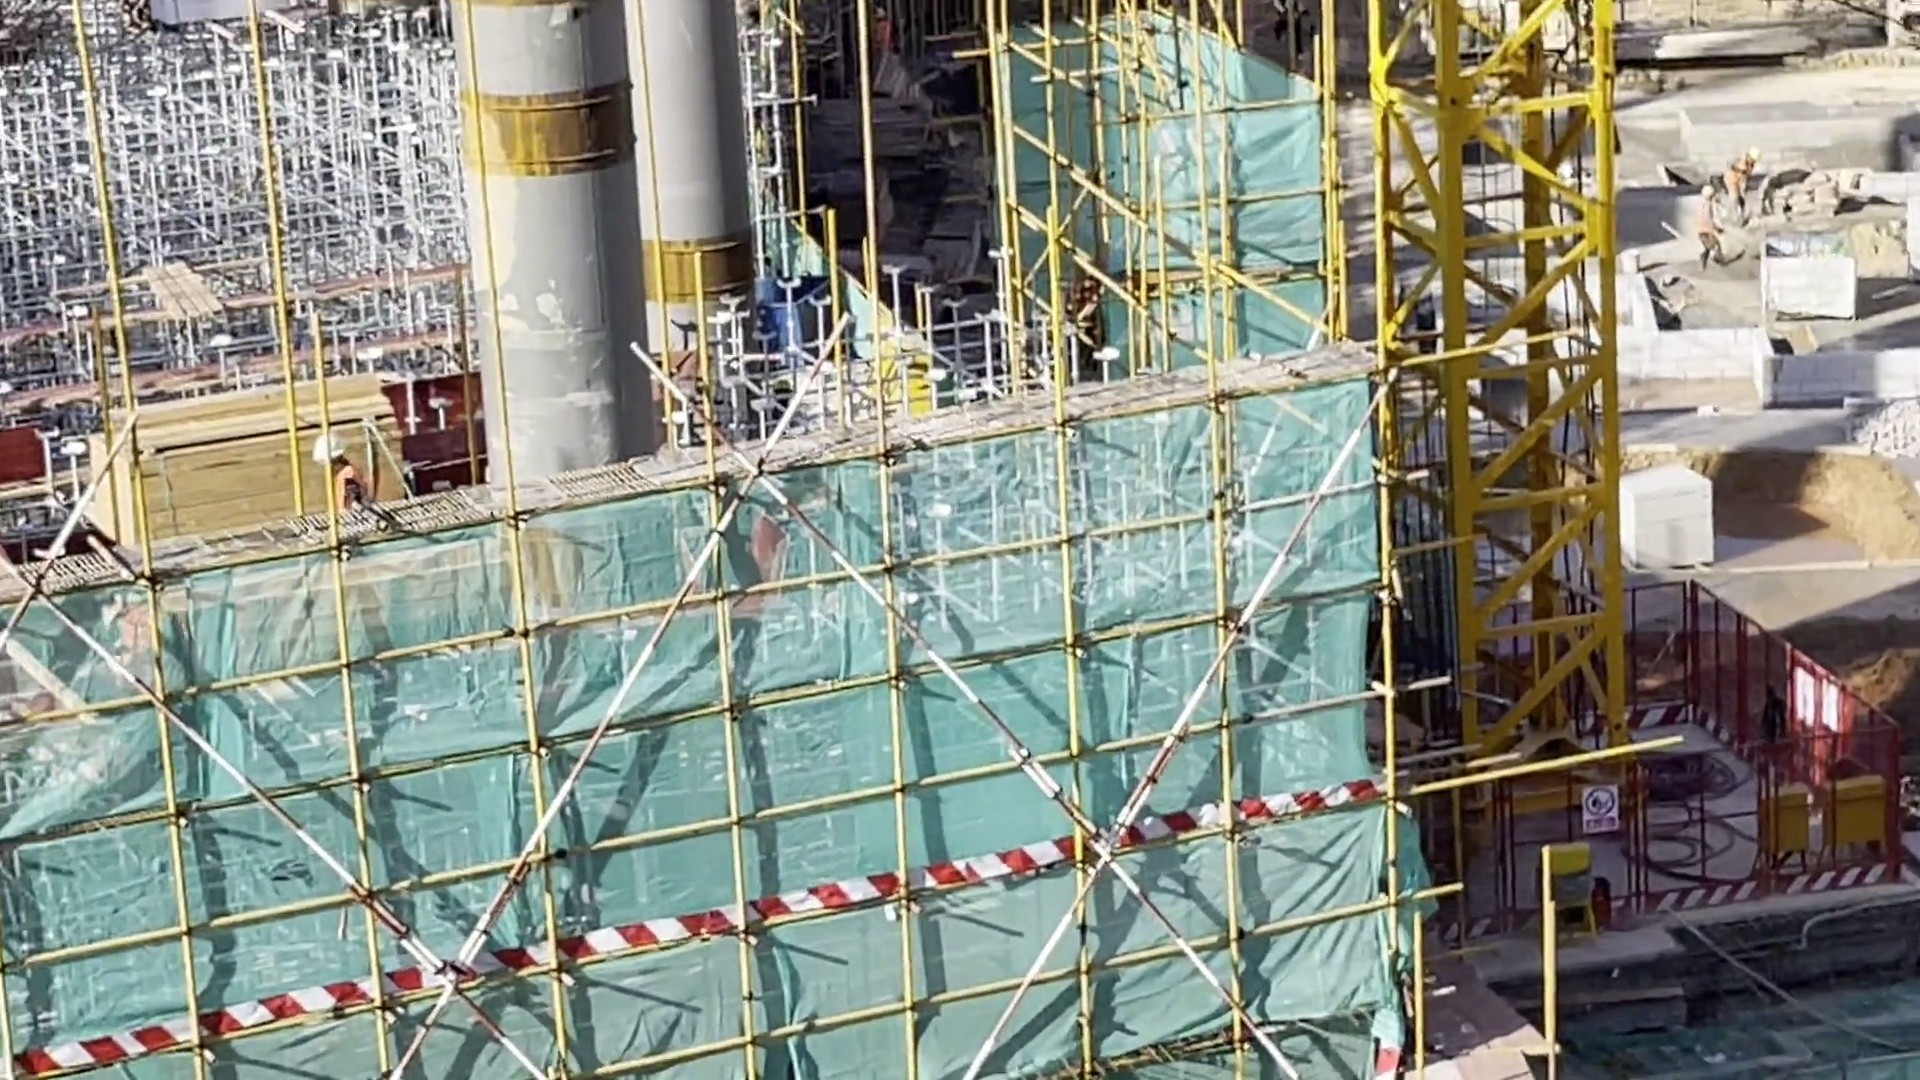helmet: (306, 430, 347, 468)
person: (310, 434, 370, 532)
vest: (329, 458, 364, 522)
wood: (71, 364, 421, 574)
